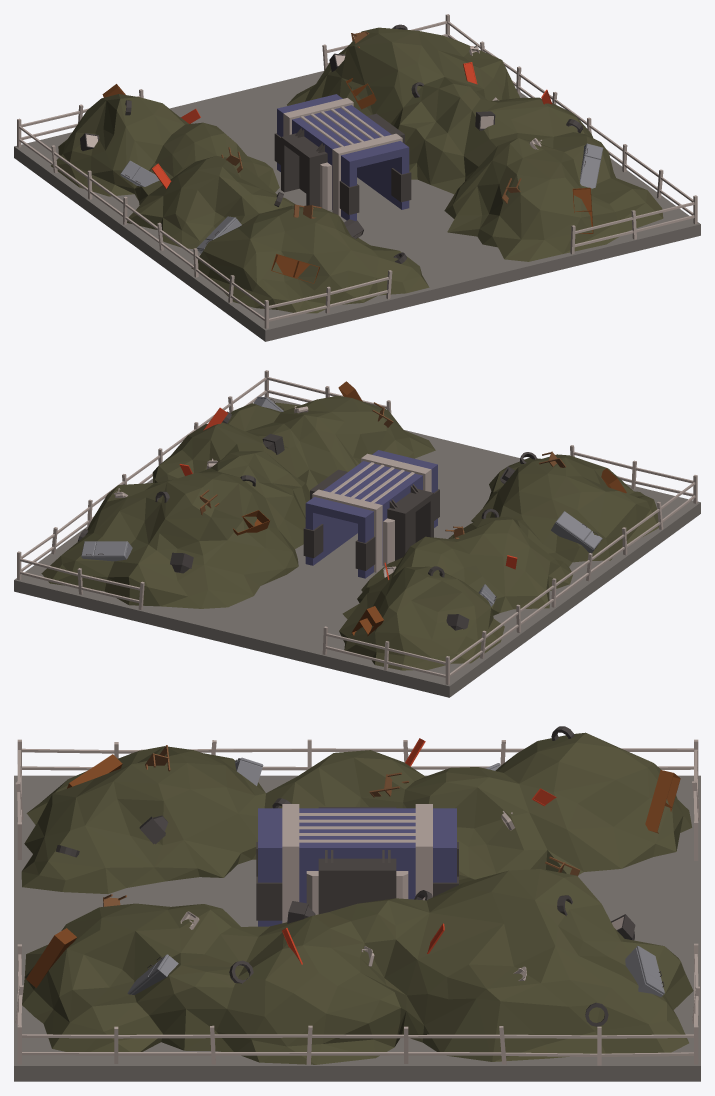
The model's file is poligon.fbx.
3 renders of one model, top to bottom at view 1: azimuth 30°, elevation 25°; view 2: azimuth 150°, elevation 25°; view 3: azimuth 270°, elevation 25°, orthographic. The views are drawn at different scales.
Parts seen in each view (by area): view 1: musor; view 2: musor; view 3: musor.
Boxes of the visible parts, x1=… form: musor: x1=14, y1=14, x2=700, y2=341; musor: x1=14, y1=370, x2=700, y2=697; musor: x1=14, y1=726, x2=700, y2=1081.
Size of the model in its own units: 200 by 41.17 by 200.
